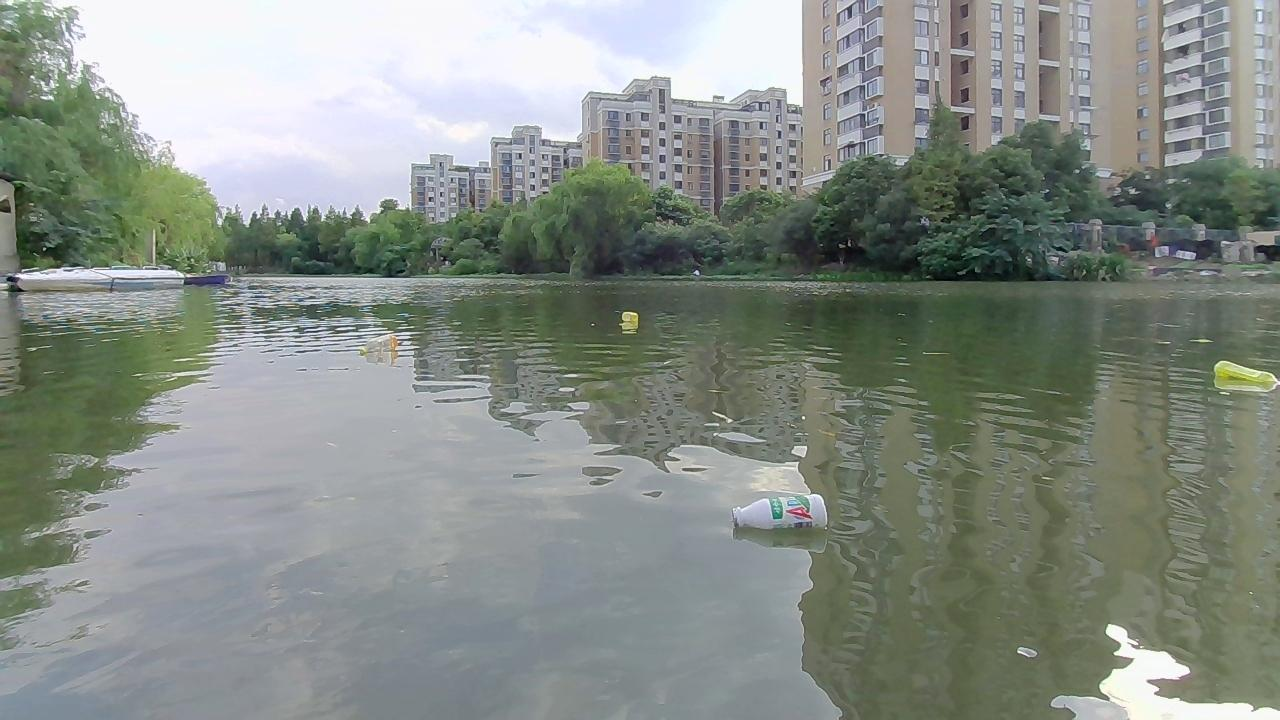Plastic: (729, 492, 830, 531), (1212, 359, 1280, 383), (358, 333, 398, 357), (621, 309, 639, 324)
